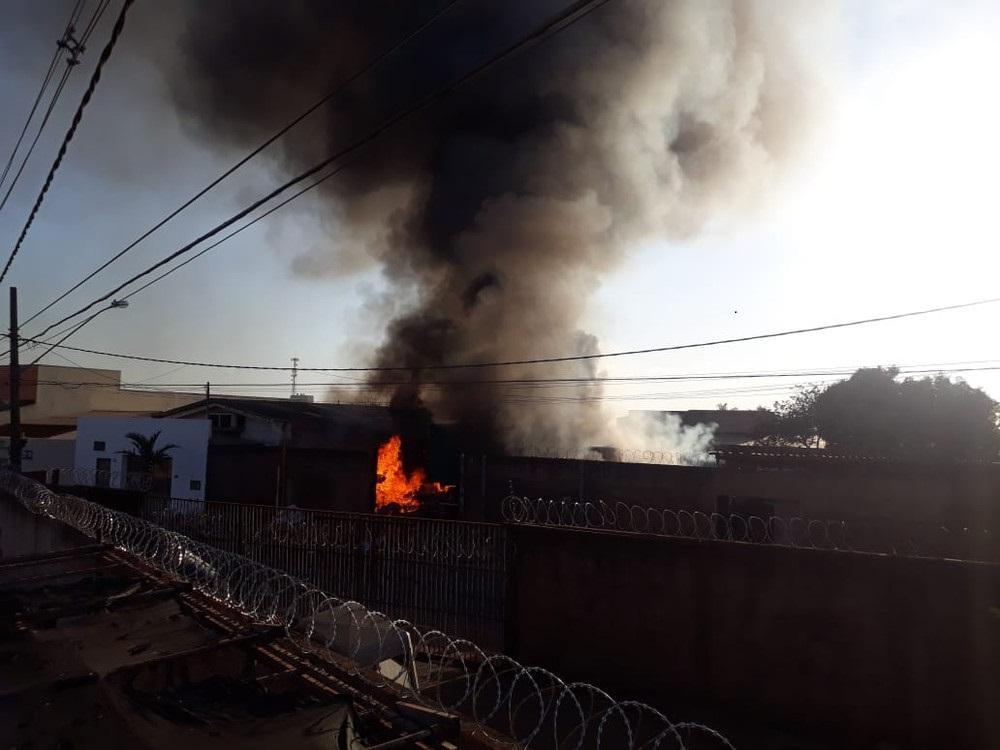Fire: (379, 439, 413, 512)
